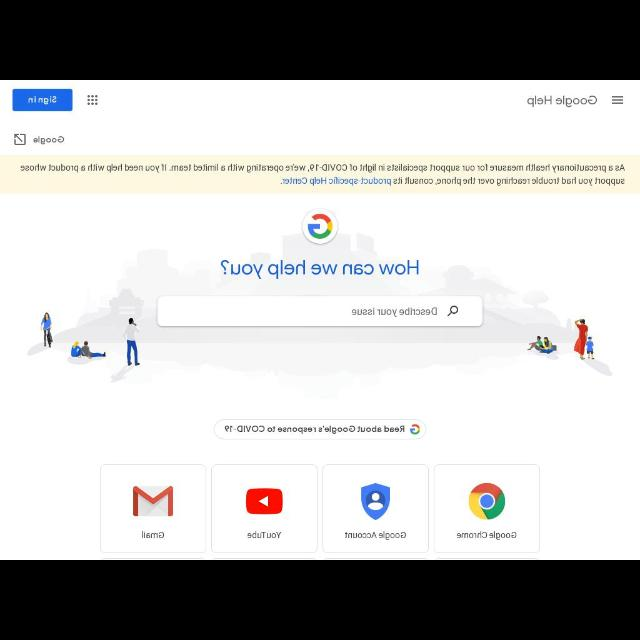backgroundimage: (2, 193, 638, 559)
icon: (84, 94, 100, 106), (611, 95, 625, 106), (14, 133, 26, 145), (448, 305, 460, 317)
image: (301, 202, 345, 242), (128, 482, 176, 518), (523, 90, 597, 112), (468, 482, 506, 520), (359, 482, 393, 522), (244, 484, 282, 516)
input: (155, 296, 483, 328)
text: (16, 162, 626, 185), (218, 259, 422, 279), (348, 307, 438, 317), (344, 530, 408, 544), (458, 530, 518, 540), (246, 528, 284, 542), (36, 134, 64, 148), (140, 527, 167, 539)
textbutton: (212, 420, 426, 440), (10, 88, 72, 114)
